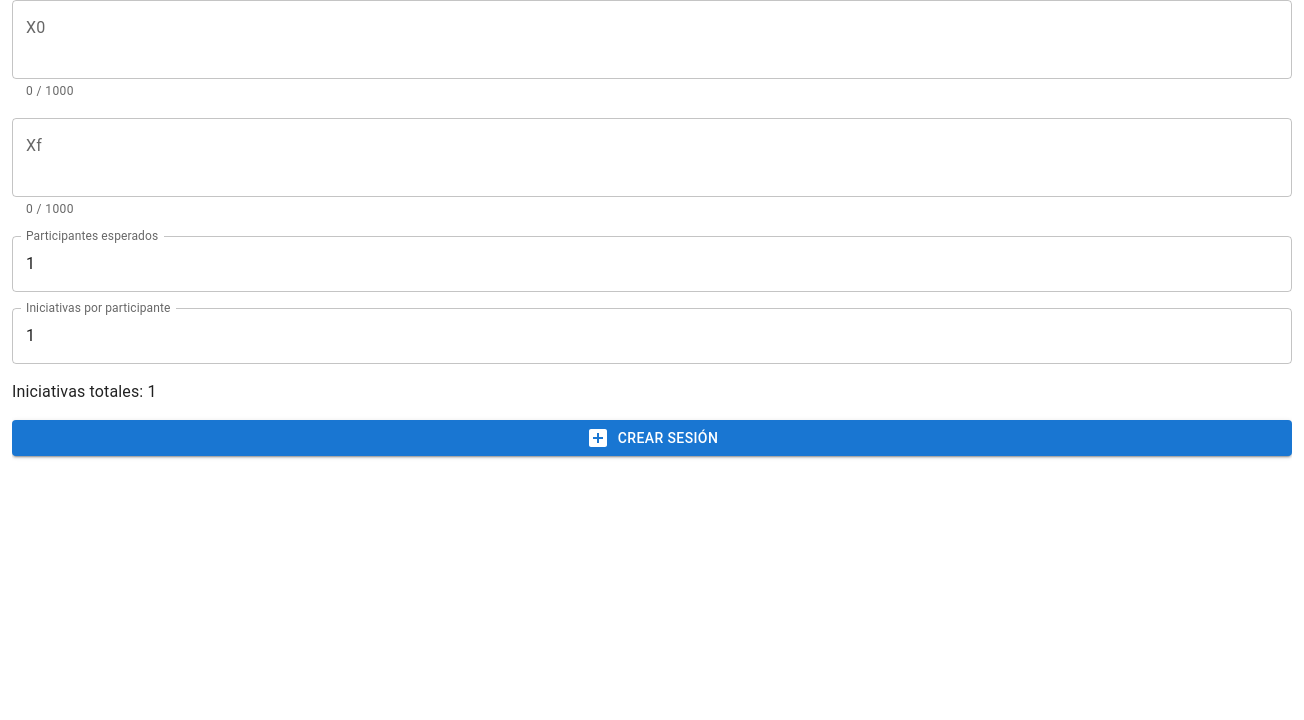
Test: formulario de configuración › impide crear con campos obligatorios vacíos
Click the button "CREAR SESIÓN" at {"x": 652, "y": 438}, box [12, 420, 1292, 456]
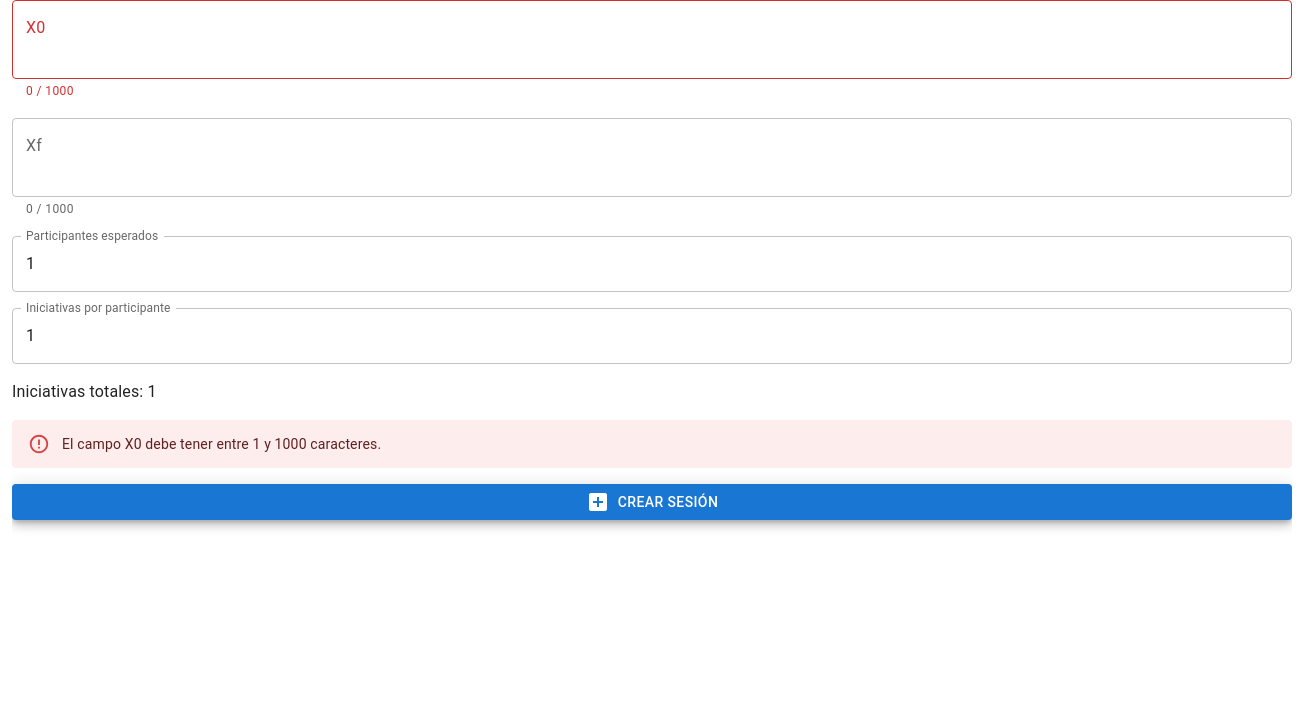
Expected: the text "El campo X0 debe tener entre 1 y 1000 caracteres." is shown, [62, 436, 381, 452]
